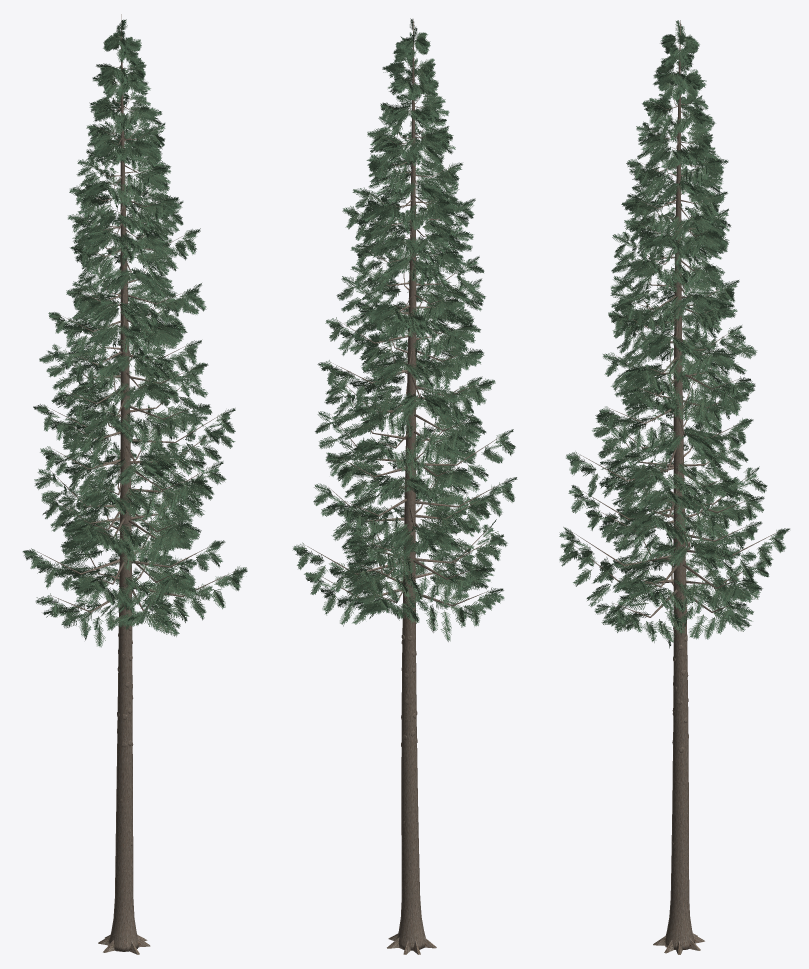
The model's file is Sitka_Mature_Benchmark_01_HighPruned_Healed_LOD1.fbx.
3 views of the same model, side by side, from view 1: azimuth 30°, elevation 25°; view 2: azimuth 150°, elevation 25°; view 3: azimuth 270°, elevation 25° (orthographic).
Visible parts, largest first — view 1: Sitka_Mature_Benchmark_01_HighPruned_Healed_LOD1_Foliage, Sitka_Mature_Benchmark_01_HighPruned_Healed_LOD1_Trunk, Sitka_Mature_Benchmark_01_HighPruned_Healed_LOD1_Branches; view 2: Sitka_Mature_Benchmark_01_HighPruned_Healed_LOD1_Foliage, Sitka_Mature_Benchmark_01_HighPruned_Healed_LOD1_Trunk, Sitka_Mature_Benchmark_01_HighPruned_Healed_LOD1_Branches; view 3: Sitka_Mature_Benchmark_01_HighPruned_Healed_LOD1_Foliage, Sitka_Mature_Benchmark_01_HighPruned_Healed_LOD1_Trunk, Sitka_Mature_Benchmark_01_HighPruned_Healed_LOD1_Branches.
Boxes of the visible parts, left/top/right/bottom form: Sitka_Mature_Benchmark_01_HighPruned_Healed_LOD1_Foliage: left=22, top=19, right=247, bottom=647; Sitka_Mature_Benchmark_01_HighPruned_Healed_LOD1_Trunk: left=98, top=14, right=150, bottom=954; Sitka_Mature_Benchmark_01_HighPruned_Healed_LOD1_Branches: left=35, top=36, right=234, bottom=612; Sitka_Mature_Benchmark_01_HighPruned_Healed_LOD1_Foliage: left=292, top=18, right=517, bottom=641; Sitka_Mature_Benchmark_01_HighPruned_Healed_LOD1_Trunk: left=387, top=19, right=436, bottom=954; Sitka_Mature_Benchmark_01_HighPruned_Healed_LOD1_Branches: left=304, top=38, right=505, bottom=606; Sitka_Mature_Benchmark_01_HighPruned_Healed_LOD1_Foliage: left=559, top=20, right=789, bottom=648; Sitka_Mature_Benchmark_01_HighPruned_Healed_LOD1_Trunk: left=653, top=20, right=704, bottom=954; Sitka_Mature_Benchmark_01_HighPruned_Healed_LOD1_Branches: left=571, top=45, right=778, bottom=617.
Size of the model in its own units: 580 by 2600 by 615.
